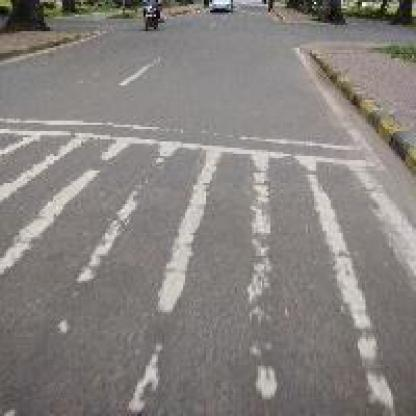Speed Bump: (0, 112, 412, 412)
